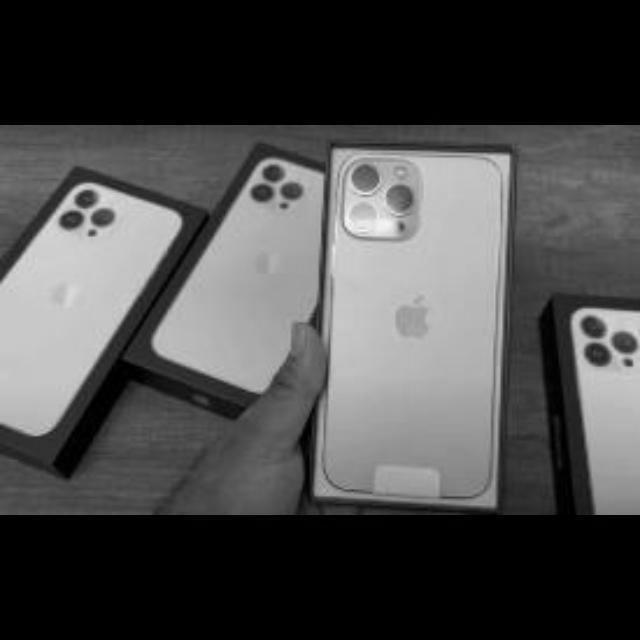fake: (0, 150, 296, 466), (535, 283, 640, 519)
